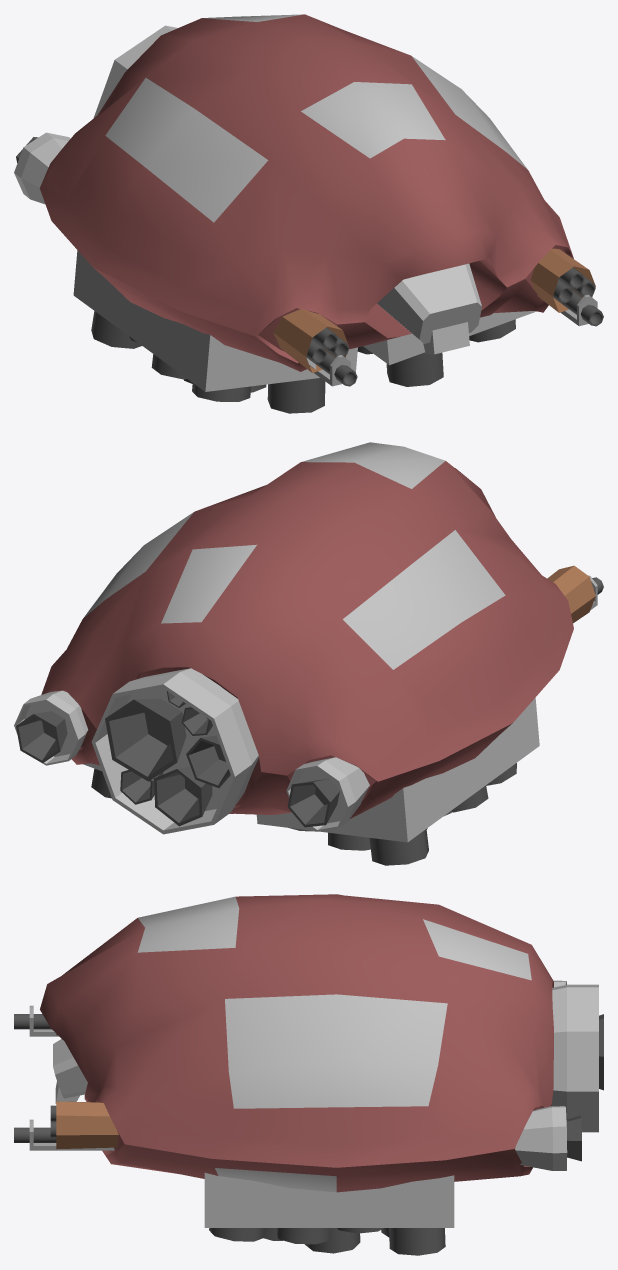
The model's file is Halk_Bomber.fbx.
3 renders of one model, top to bottom at view 1: azimuth 30°, elevation 25°; view 2: azimuth 150°, elevation 25°; view 3: azimuth 270°, elevation 25°, orthographic. The views are drawn at different scales.
Visible parts, largest first — view 1: polySurface96; view 2: polySurface96; view 3: polySurface96.
Boxes of the visible parts, <box> form: polySurface96: <box>14,14,603,413</box>; polySurface96: <box>14,442,603,865</box>; polySurface96: <box>14,894,603,1255</box>.
Size of the model in its own units: 26.32 by 18.99 by 33.79.
